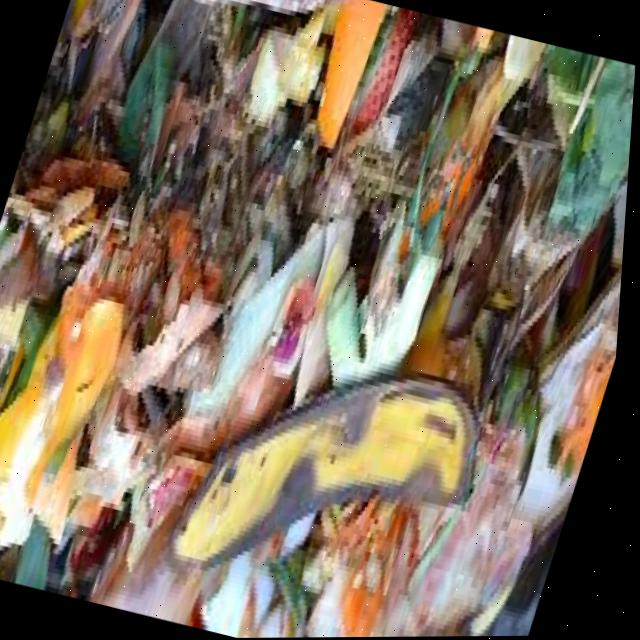Wet: (0, 0, 640, 640), (147, 303, 525, 639), (0, 181, 203, 590)
